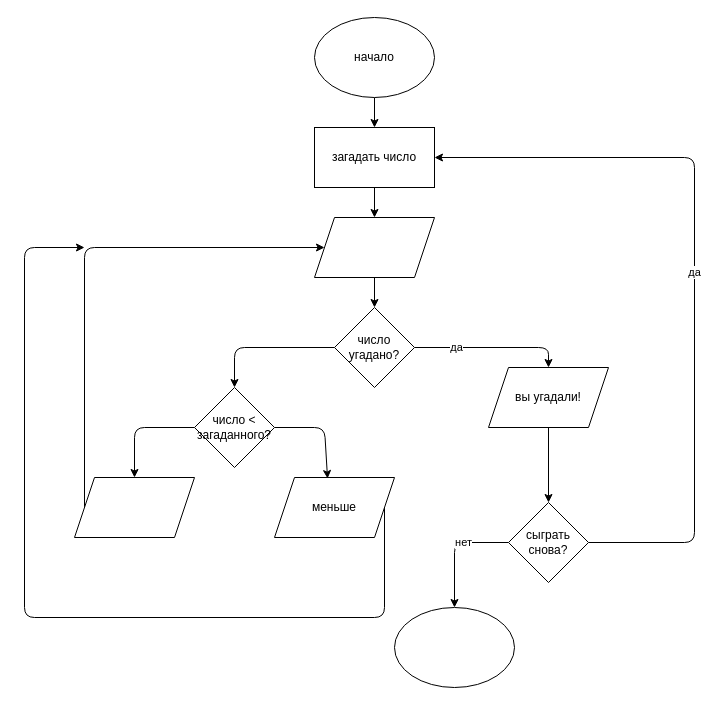
Some shapes in this 720 by 705 pixel diagram are drawn without their labels. The shapes that lost their labels are listed below. From the top down, each one's centre as x and y in pixels, then its label:
At point 374,247: "ввод числа".
At point 134,507: "больше".
At point 454,647: "конец".
